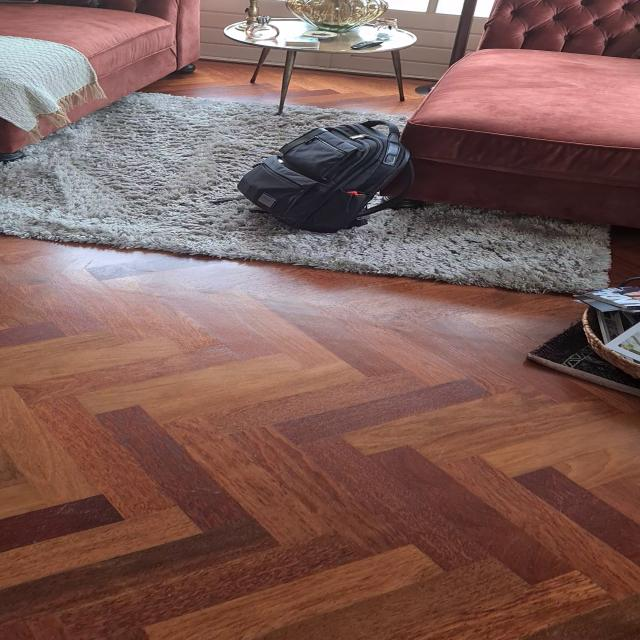backpack: (230, 118, 422, 236)
